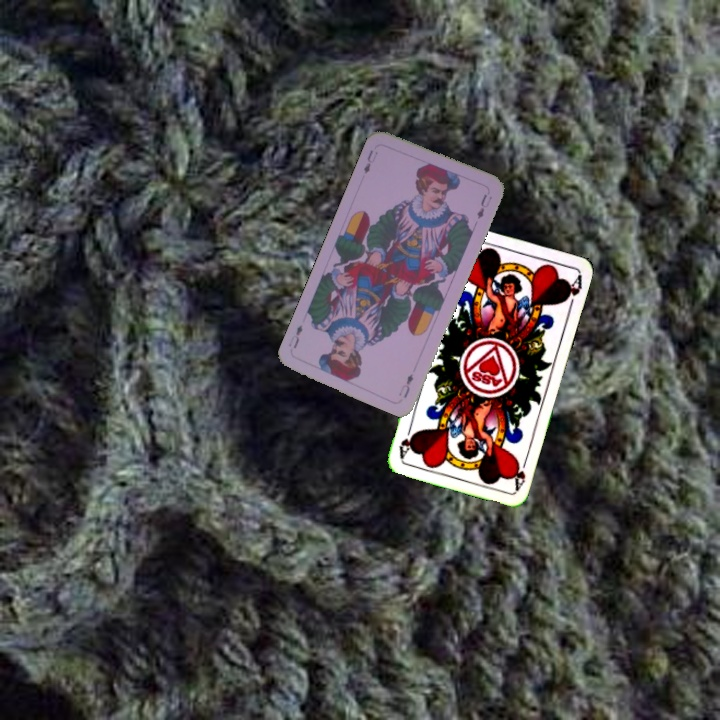EU: (359, 146, 380, 177), (395, 369, 416, 400)
HA: (510, 452, 531, 492)
